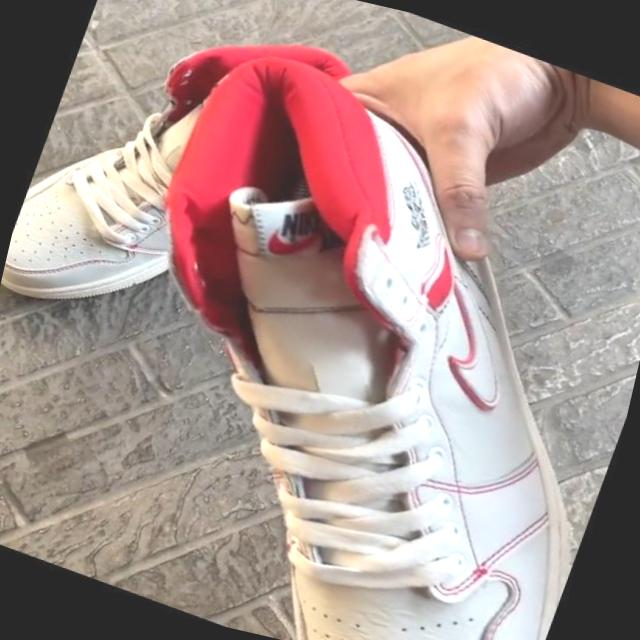nike_fake_jordan: (24, 14, 640, 640), (0, 0, 284, 362)
